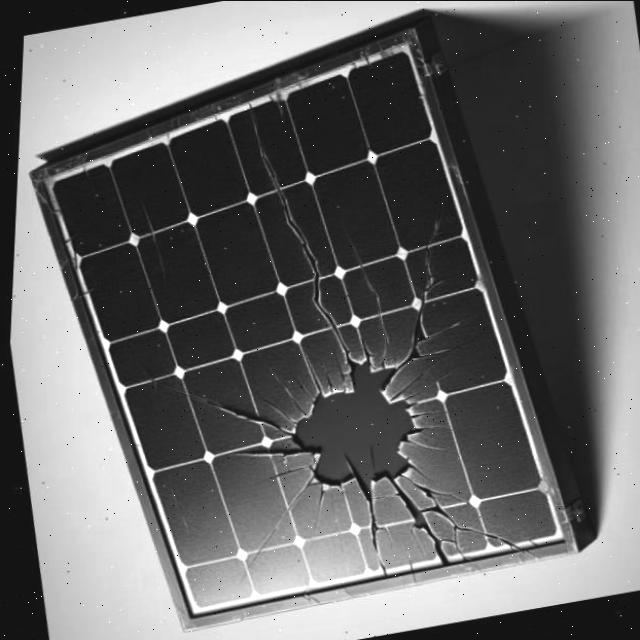Anomaly Solar Panel: (39, 47, 562, 640)
Structural Damage: (228, 104, 358, 377), (274, 351, 438, 517), (378, 206, 509, 398), (382, 460, 521, 587), (335, 216, 395, 371), (236, 475, 317, 585), (369, 475, 453, 573), (154, 383, 292, 442), (388, 410, 463, 486), (349, 475, 400, 578), (381, 350, 464, 413), (264, 368, 307, 421), (249, 463, 309, 490), (251, 395, 295, 427), (304, 487, 327, 546), (297, 350, 322, 398), (287, 374, 314, 409), (228, 454, 310, 460), (319, 366, 332, 395)
